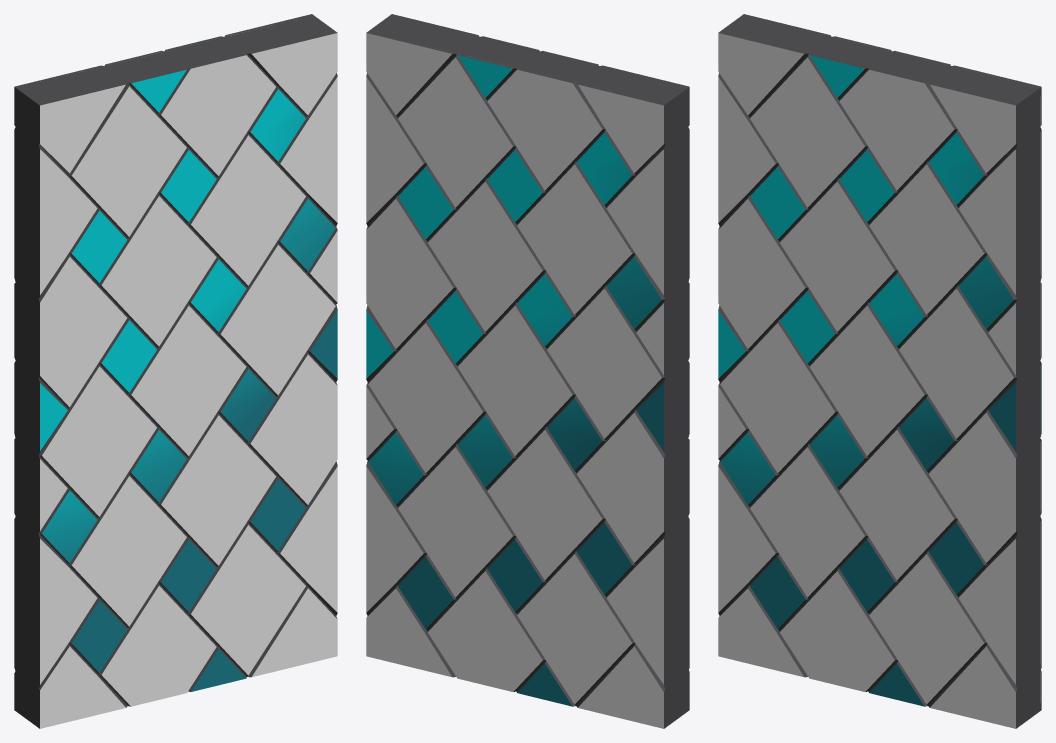
File: TurquoiseTileWall.glb
The picture shows the model from 3 angles, left to right: view 1: azimuth 30°, elevation 25°; view 2: azimuth 150°, elevation 25°; view 3: azimuth 330°, elevation 25°; orthographic projection.
Parts seen in each view (by area): view 1: wall_twoTile; view 2: wall_twoTile; view 3: wall_twoTile.
Part boxes in pixels (<box>): wall_twoTile: <box>14,14,337,728</box>; wall_twoTile: <box>366,14,689,728</box>; wall_twoTile: <box>718,14,1041,728</box>.
Size of what is drawn, in the model's own units: 2 by 4 by 0.3.
Materials: 1 (1 with a texture image).
